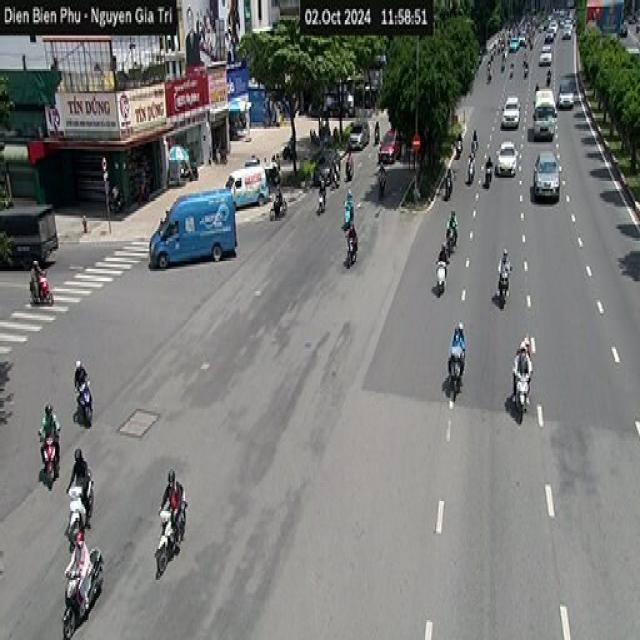car: (144, 193, 245, 272), (532, 149, 560, 200), (493, 140, 518, 176), (378, 126, 400, 164), (500, 95, 520, 129)
motorcycle: (61, 546, 104, 638), (154, 498, 188, 578), (39, 431, 60, 489), (447, 349, 465, 404), (28, 269, 54, 304), (512, 369, 532, 413), (75, 380, 93, 427), (343, 224, 358, 266), (435, 256, 449, 294), (269, 191, 286, 220), (498, 264, 510, 300), (376, 166, 386, 198), (466, 151, 475, 185), (316, 184, 326, 213), (482, 160, 492, 187)
person: (65, 446, 94, 526), (159, 469, 186, 553), (64, 529, 91, 611), (38, 402, 60, 478), (447, 322, 465, 384)
truck: (0, 202, 58, 269)
